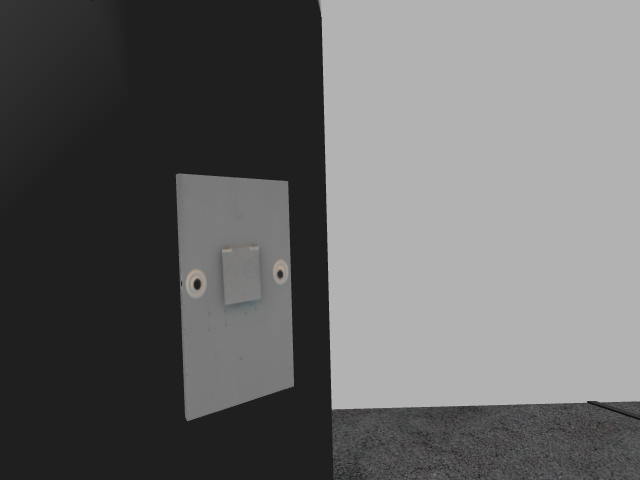facade: (185, 242, 288, 306)
